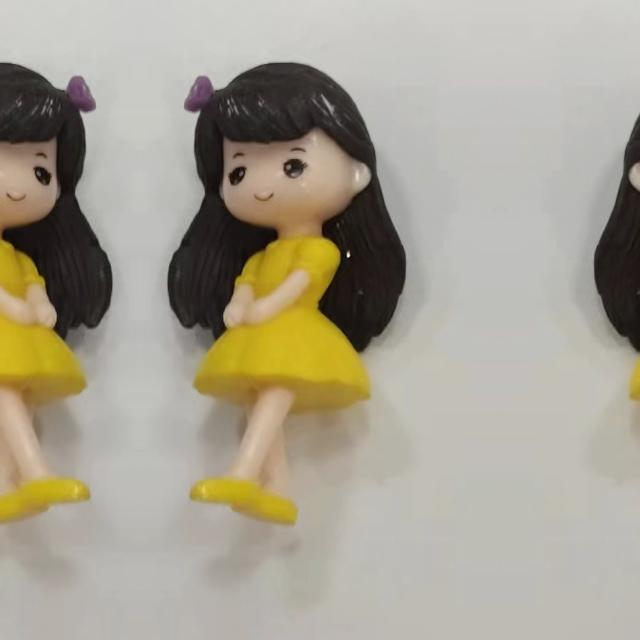woman dress: (218, 215, 366, 543), (0, 215, 61, 543), (634, 215, 640, 543)
woman head: (147, 49, 391, 245), (0, 49, 133, 245), (609, 49, 640, 245)
